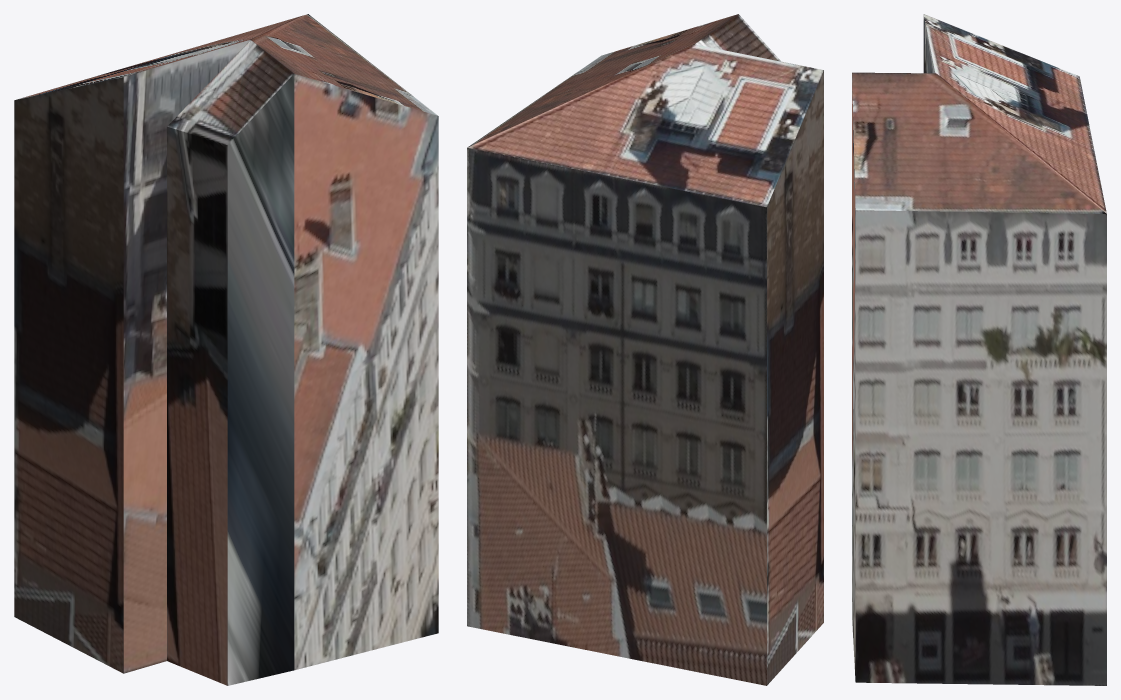
3 renders of one model, left to right at view 1: azimuth 30°, elevation 25°; view 2: azimuth 150°, elevation 25°; view 3: azimuth 270°, elevation 25°, orthographic. The views are drawn at different scales.
Parts seen in each view (by area): view 1: Z_UP; view 2: Z_UP; view 3: Z_UP.
Part boxes in pixels (x1,y1,x2,y2): Z_UP: (14,14,438,685); Z_UP: (467,14,823,685); Z_UP: (852,14,1106,685).
Bounding box in the file's own units: 14.54 × 26.83 × 11.38.
Materials: 2 (1 with a texture image).
